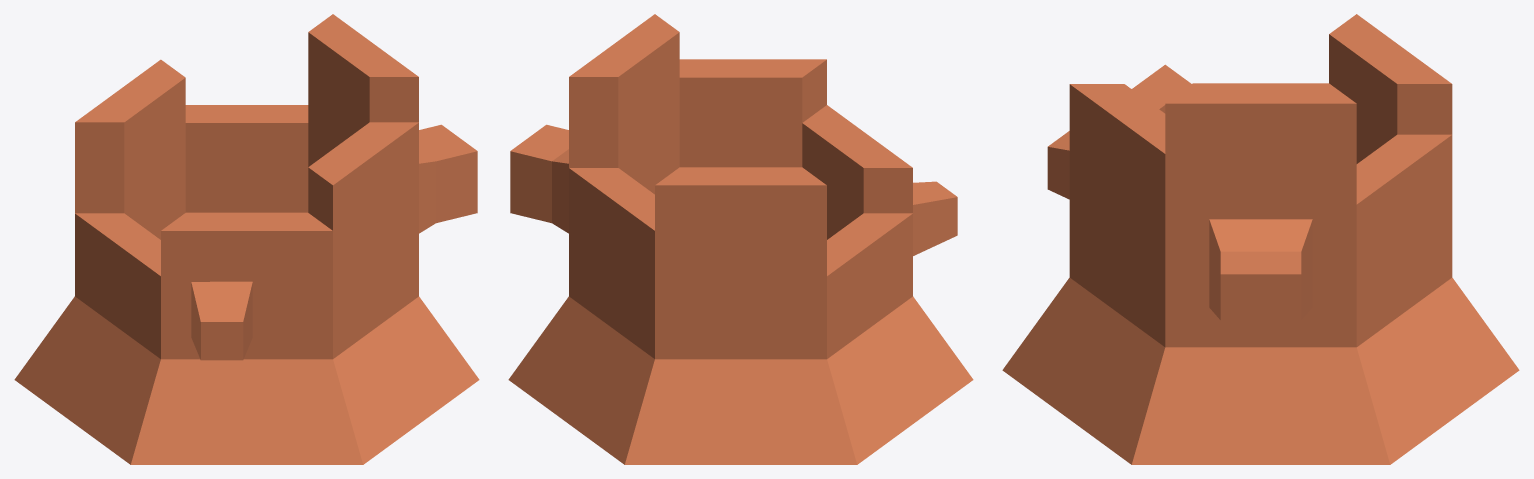
File: d_kenney_souche.glb
The picture shows the model from 3 angles, left to right: view 1: azimuth 30°, elevation 25°; view 2: azimuth 150°, elevation 25°; view 3: azimuth 270°, elevation 25°; orthographic projection. The views are drawn at different scales.
Parts seen in each view (by area): view 1: d_kenney_souche; view 2: d_kenney_souche; view 3: d_kenney_souche.
Boxes of the visible parts, x1=… form: d_kenney_souche: x1=14, y1=14, x2=479, y2=464; d_kenney_souche: x1=508, y1=14, x2=973, y2=464; d_kenney_souche: x1=1002, y1=14, x2=1519, y2=464.
Bounding box in the file's own units: 0.3565 × 0.2665 × 0.371.
1 material, 1 textured.
